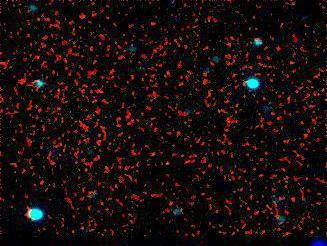star: (65, 1, 95, 31)
